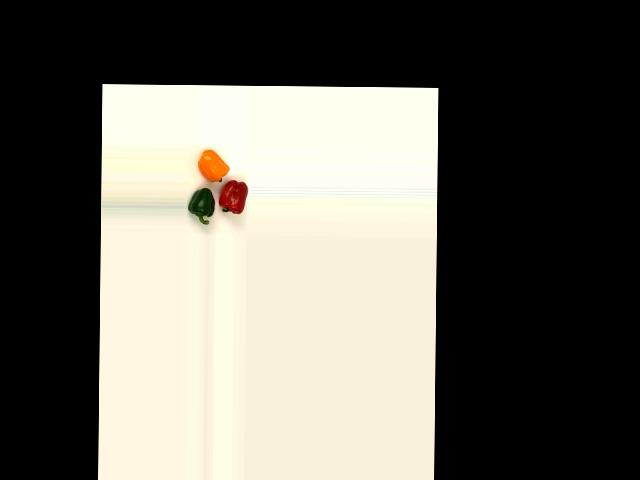bell_pepper: (187, 187, 216, 226)
